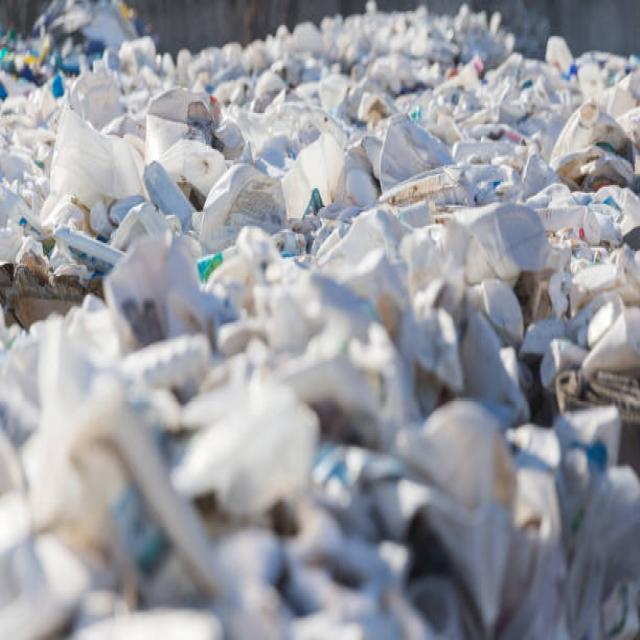plastic: (108, 53, 606, 609)
